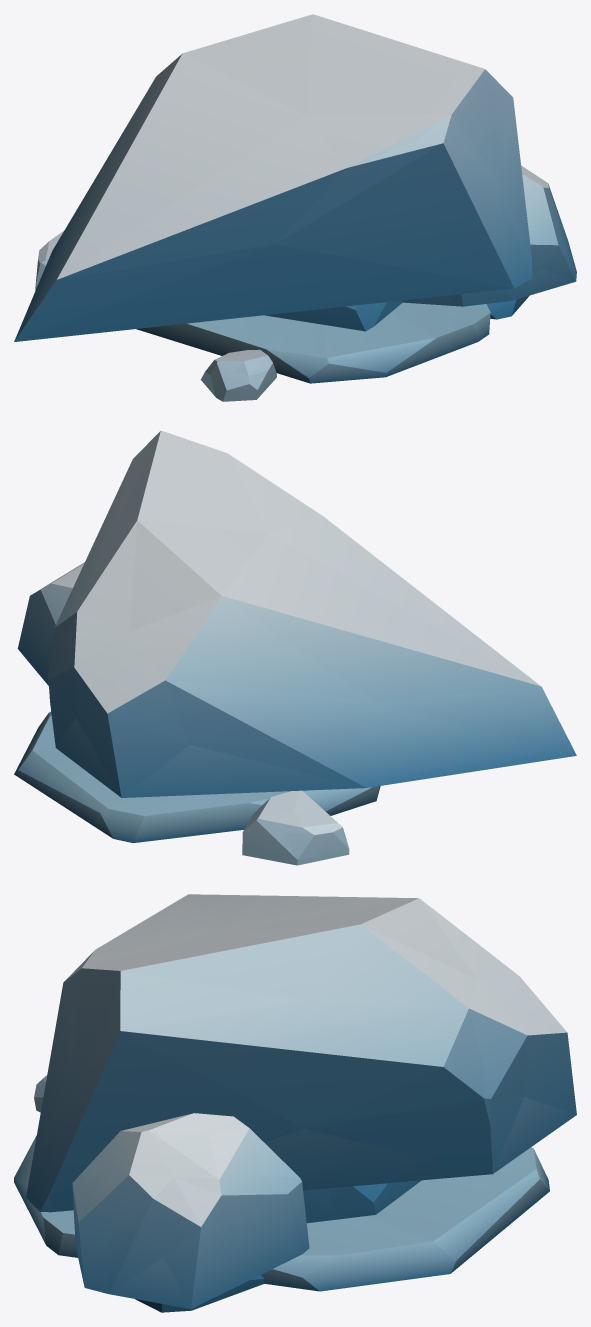
File: resorte.glb
3 views of the same model, one above another, from view 1: azimuth 30°, elevation 25°; view 2: azimuth 150°, elevation 25°; view 3: azimuth 270°, elevation 25° (orthographic). The views are drawn at different scales.
Visible parts, largest first — view 1: ice_growler; view 2: ice_growler; view 3: ice_growler.
Boxes of the visible parts, bbox=[...] form: ice_growler: bbox=[14, 14, 576, 401]; ice_growler: bbox=[14, 430, 576, 865]; ice_growler: bbox=[14, 894, 576, 1312].
Size of the model in its own units: 1.09 by 0.461 by 0.7868.
